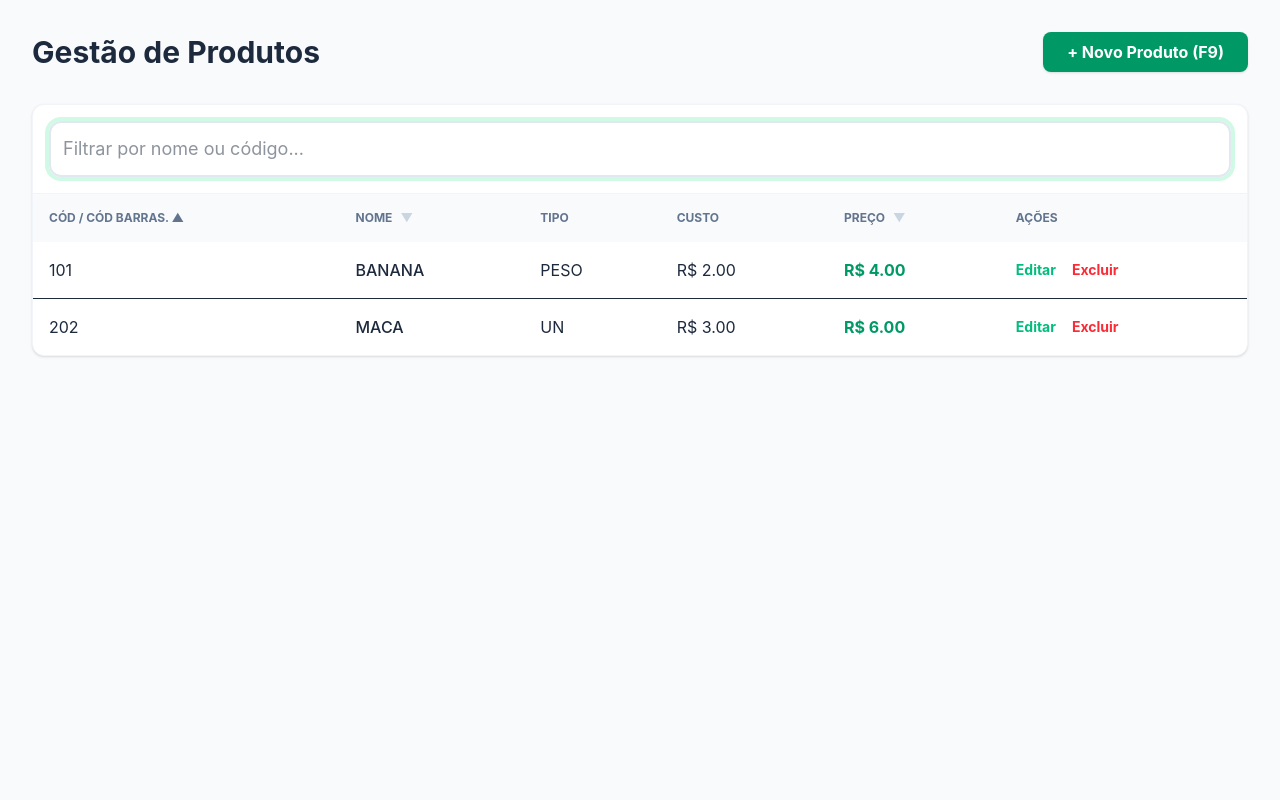
Página de Estoque › deve abrir o modal de novo produto ao clicar no botão
Step 1. Click the button "+ Novo Produto (F9)" → (1146, 52), box [1043,32,1248,72]
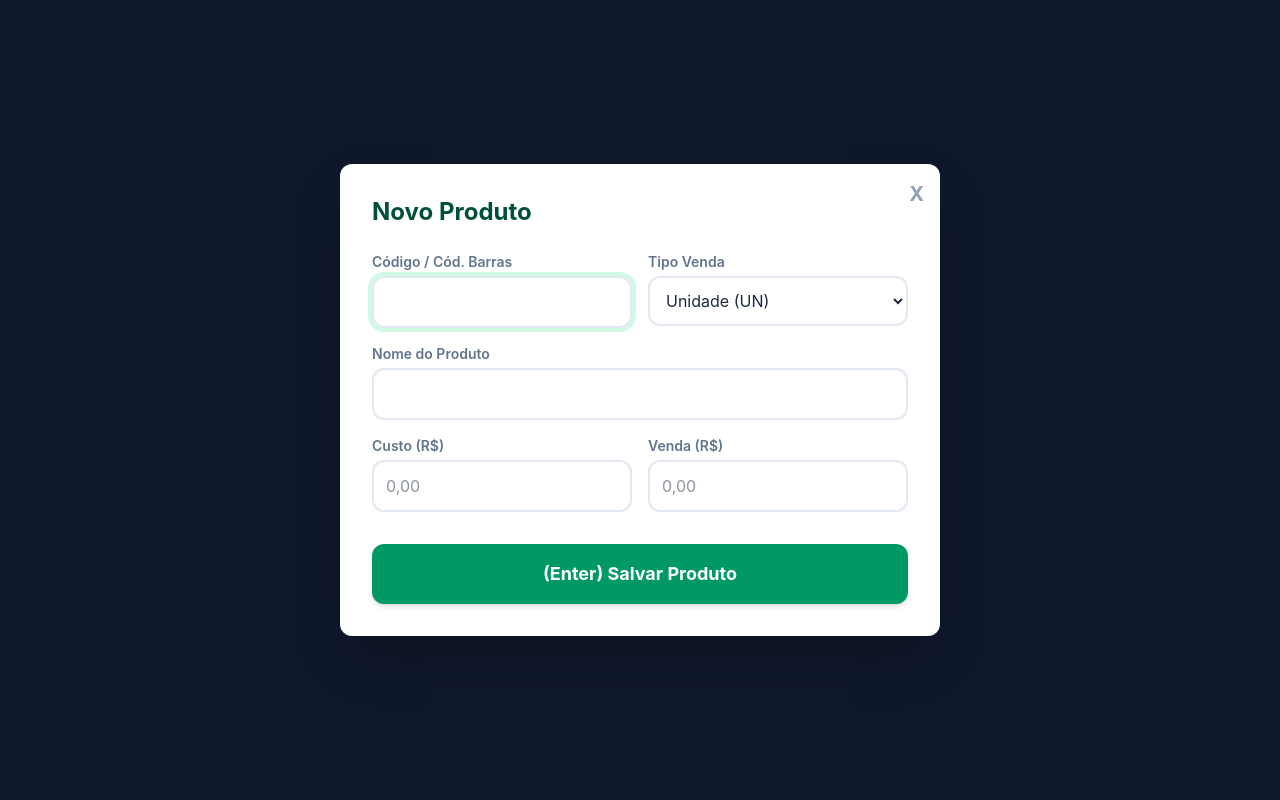
Check: the heading "Novo Produto" is shown, box [372,197,532,226]
